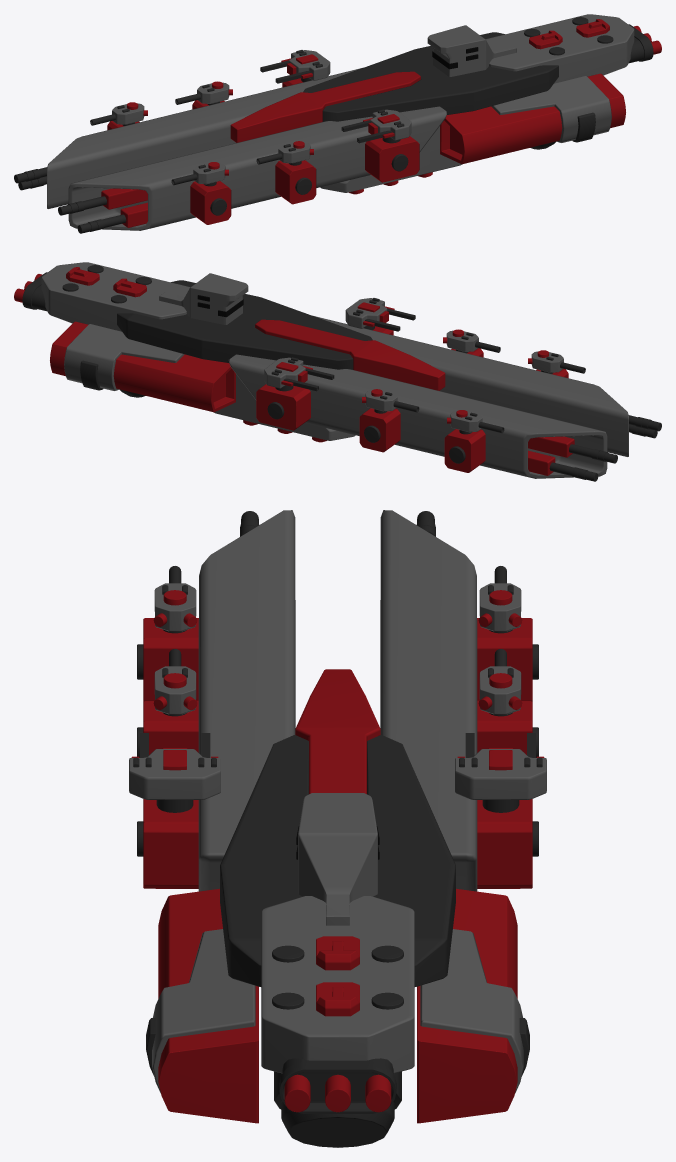
Rendered from BigBoss1.glb.
3 views of the same model, one above another, from view 1: azimuth 30°, elevation 25°; view 2: azimuth 150°, elevation 25°; view 3: azimuth 270°, elevation 25° (orthographic). The views are drawn at different scales.
Visible parts, largest first — view 1: Destroyer_3.002; view 2: Destroyer_3.002; view 3: Destroyer_3.002.
Part boxes in pixels (left/top/right/bottom): Destroyer_3.002: left=14, top=14, right=661, bottom=233; Destroyer_3.002: left=14, top=262, right=661, bottom=481; Destroyer_3.002: left=129, top=510, right=546, bottom=1147.
Size of the model in its own units: 107 by 21.94 by 31.6.
1 material, 1 textured.
